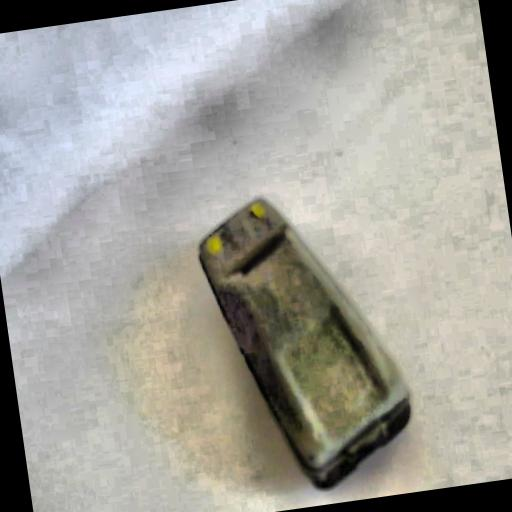normal_car: (177, 162, 426, 504)
